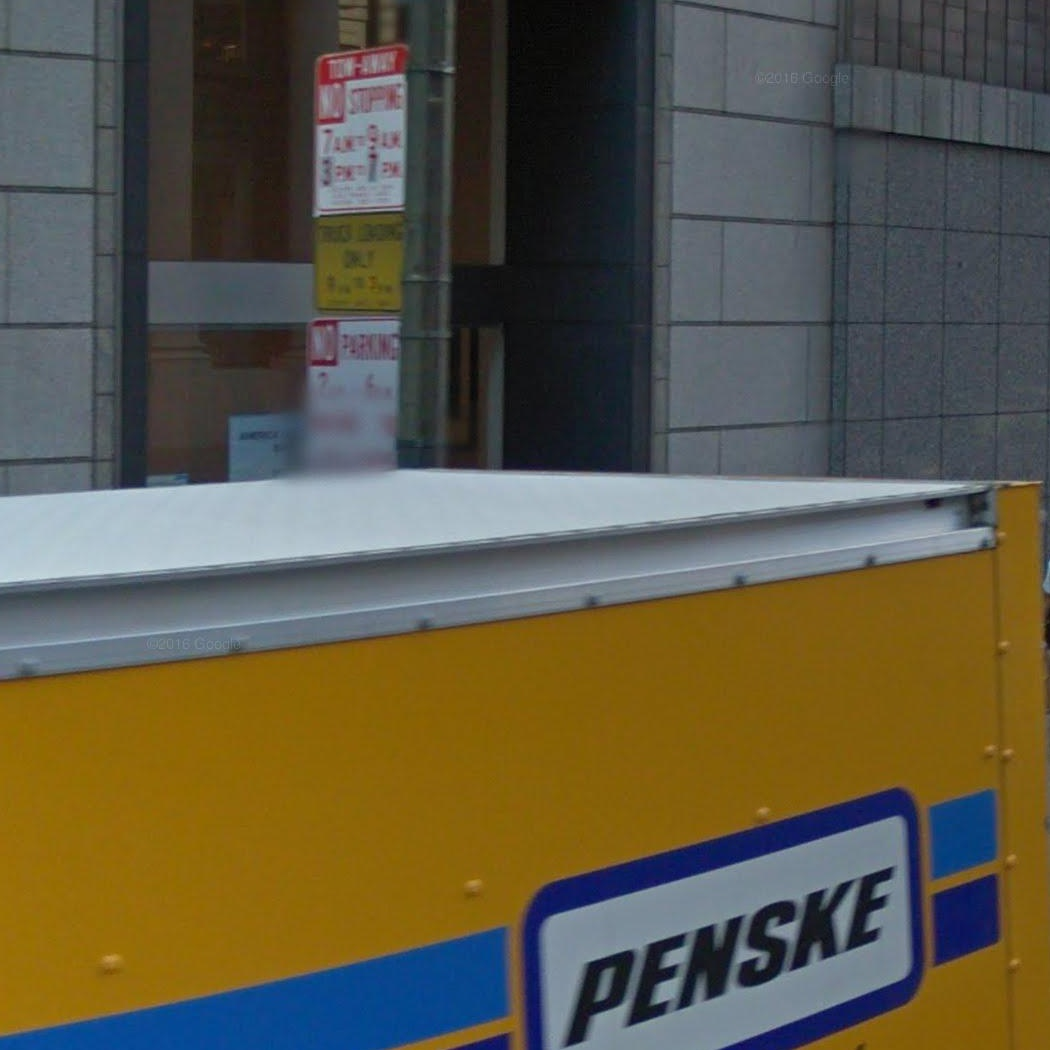No Parking: (304, 315, 403, 469)
